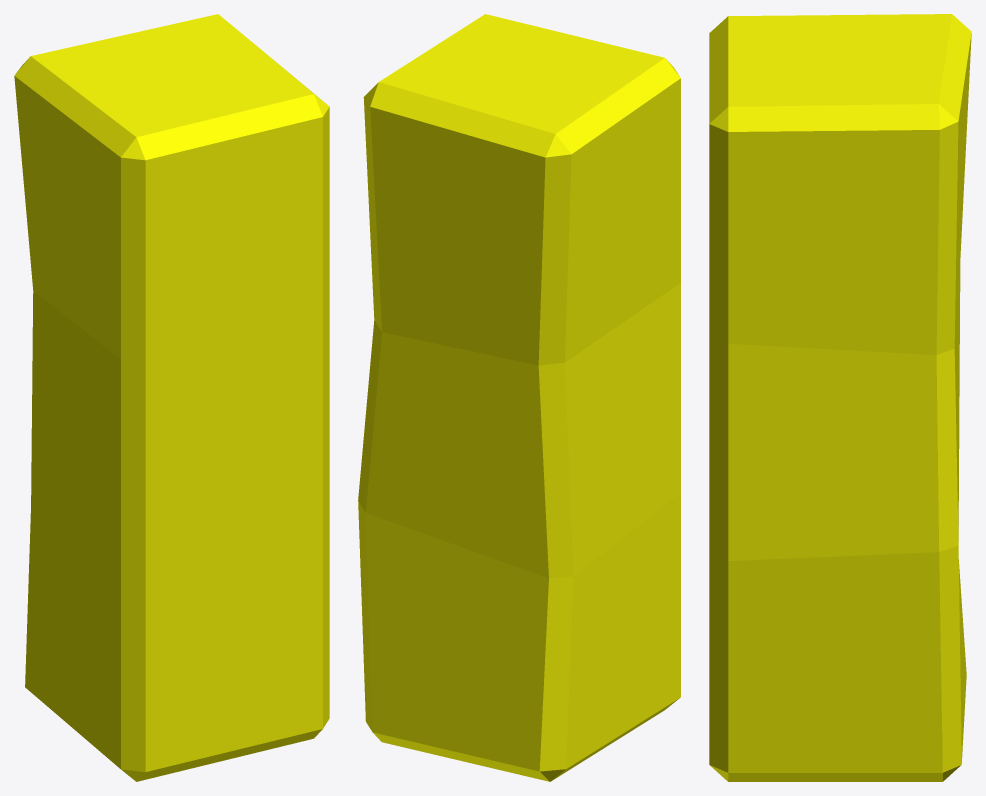
File: Stone_L6.fbx
3 renders of one model, left to right at view 1: azimuth 30°, elevation 25°; view 2: azimuth 150°, elevation 25°; view 3: azimuth 270°, elevation 25°, orthographic. The views are drawn at different scales.
Visible parts, largest first — view 1: Stone; view 2: Stone; view 3: Stone.
Part boxes in pixels (box(x1,y1,x2,y2)): Stone: box(14, 14, 329, 781); Stone: box(358, 14, 680, 781); Stone: box(709, 14, 971, 781).
Size of the model in its own units: 2.09 by 5.95 by 2.08.
